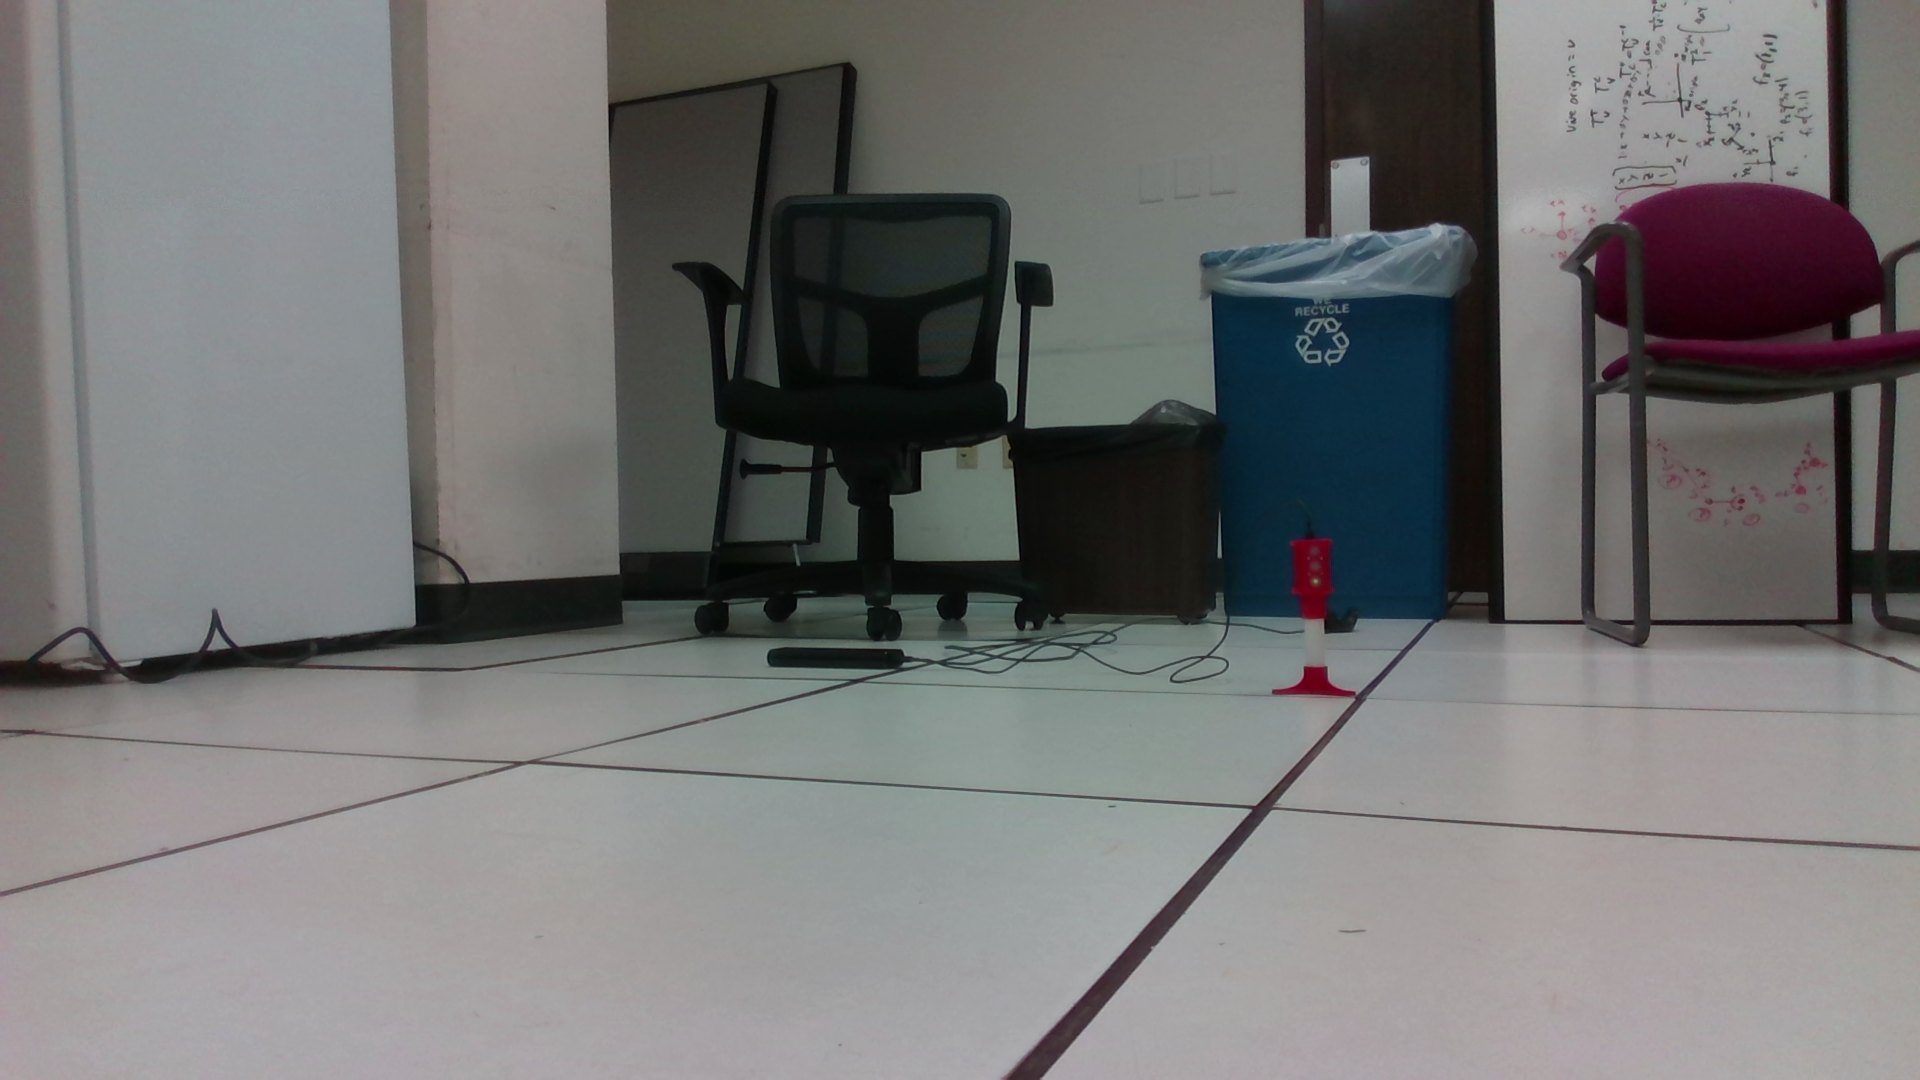stoplight: (1288, 535, 1337, 622)
